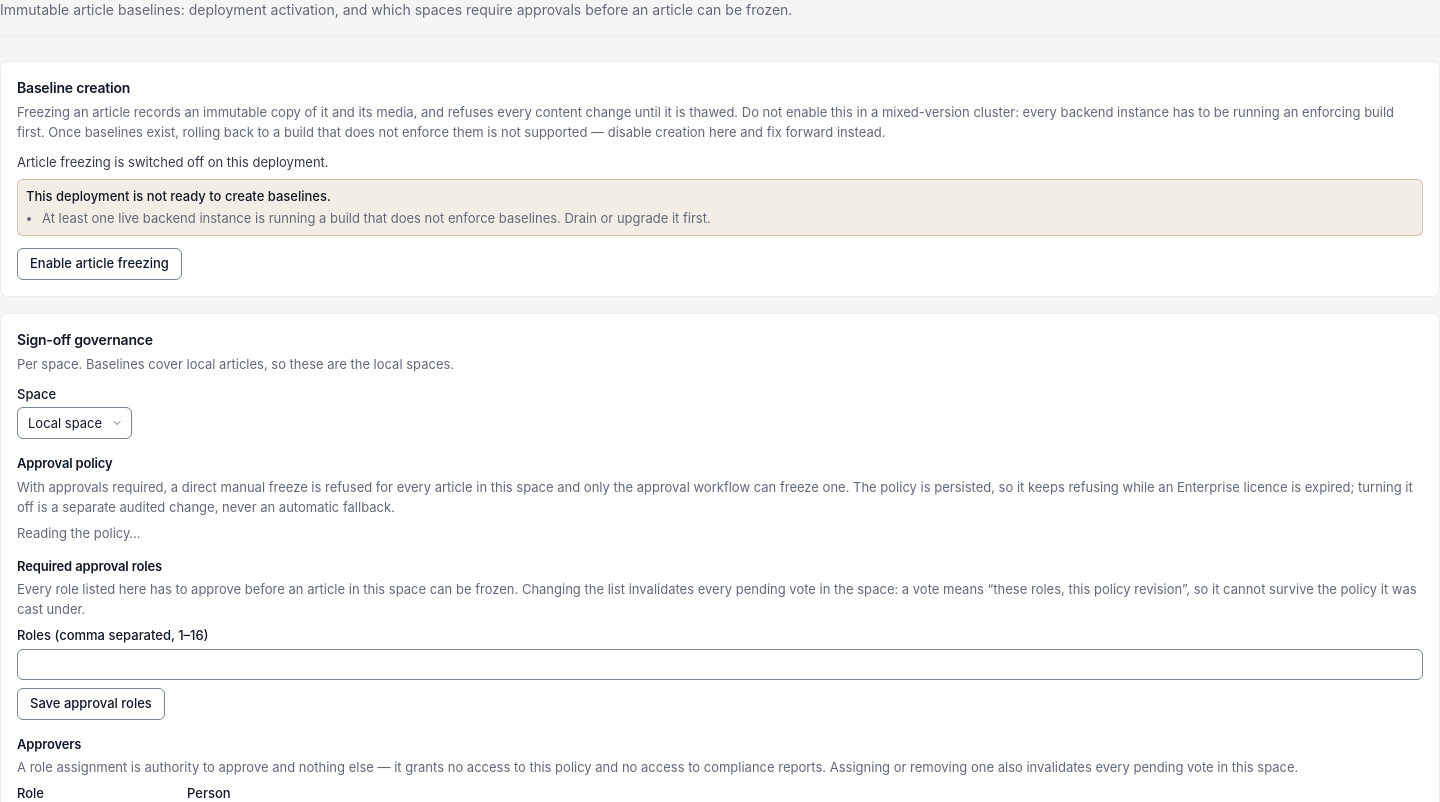
Test case: article baselines admin panel › refuses activation while the deployment reports a blocker, and says what it is
Expected: the message with test id "activation-blockers" shows "does not enforce baselines", top-left (42, 210), bottom-right (711, 226)
Click the button with test id "activation-toggle". click: {"x": 99, "y": 264}
box: top-left (17, 248), bottom-right (182, 280)
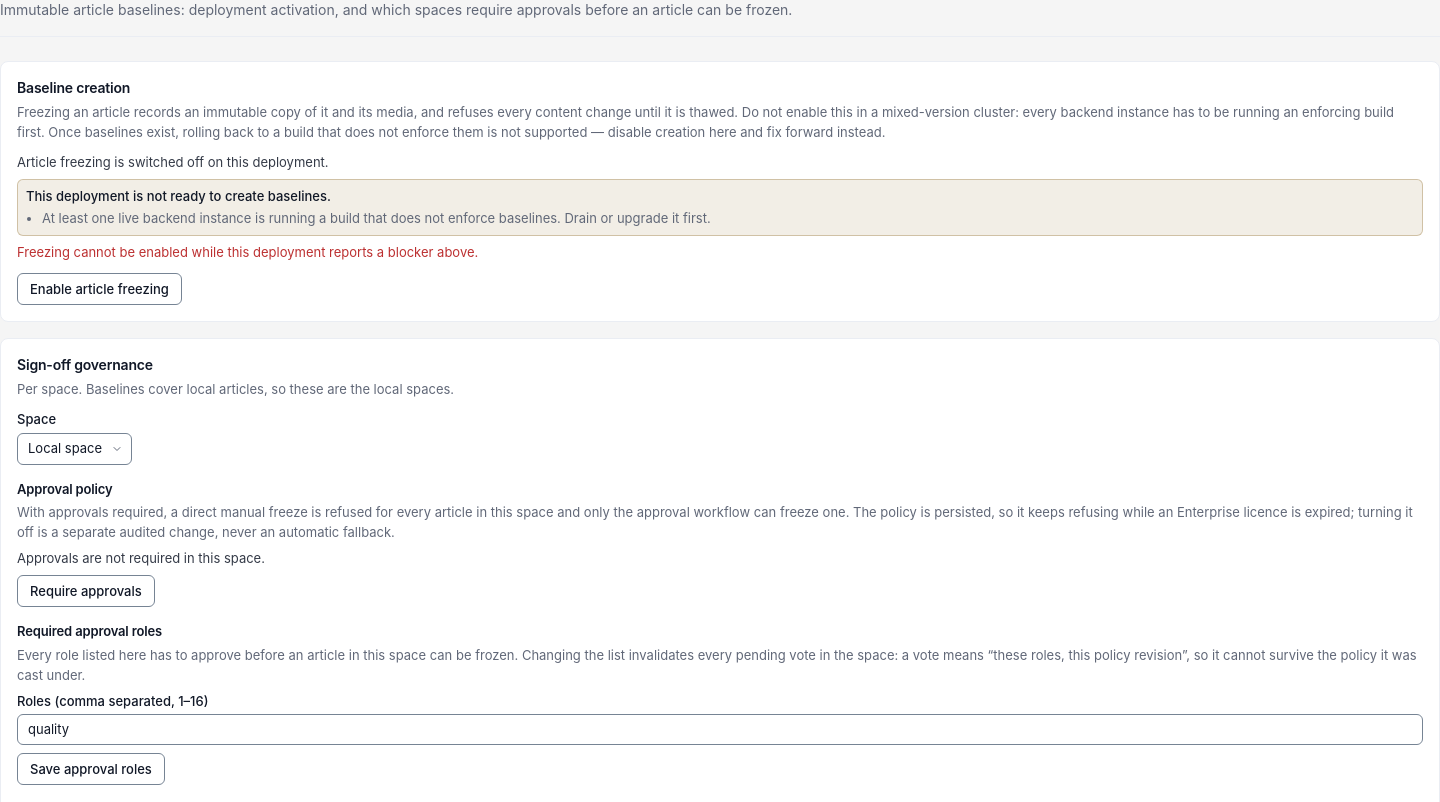
Now the text with test id "activation-save-error" is shown, box top-left (17, 244), bottom-right (478, 260)
